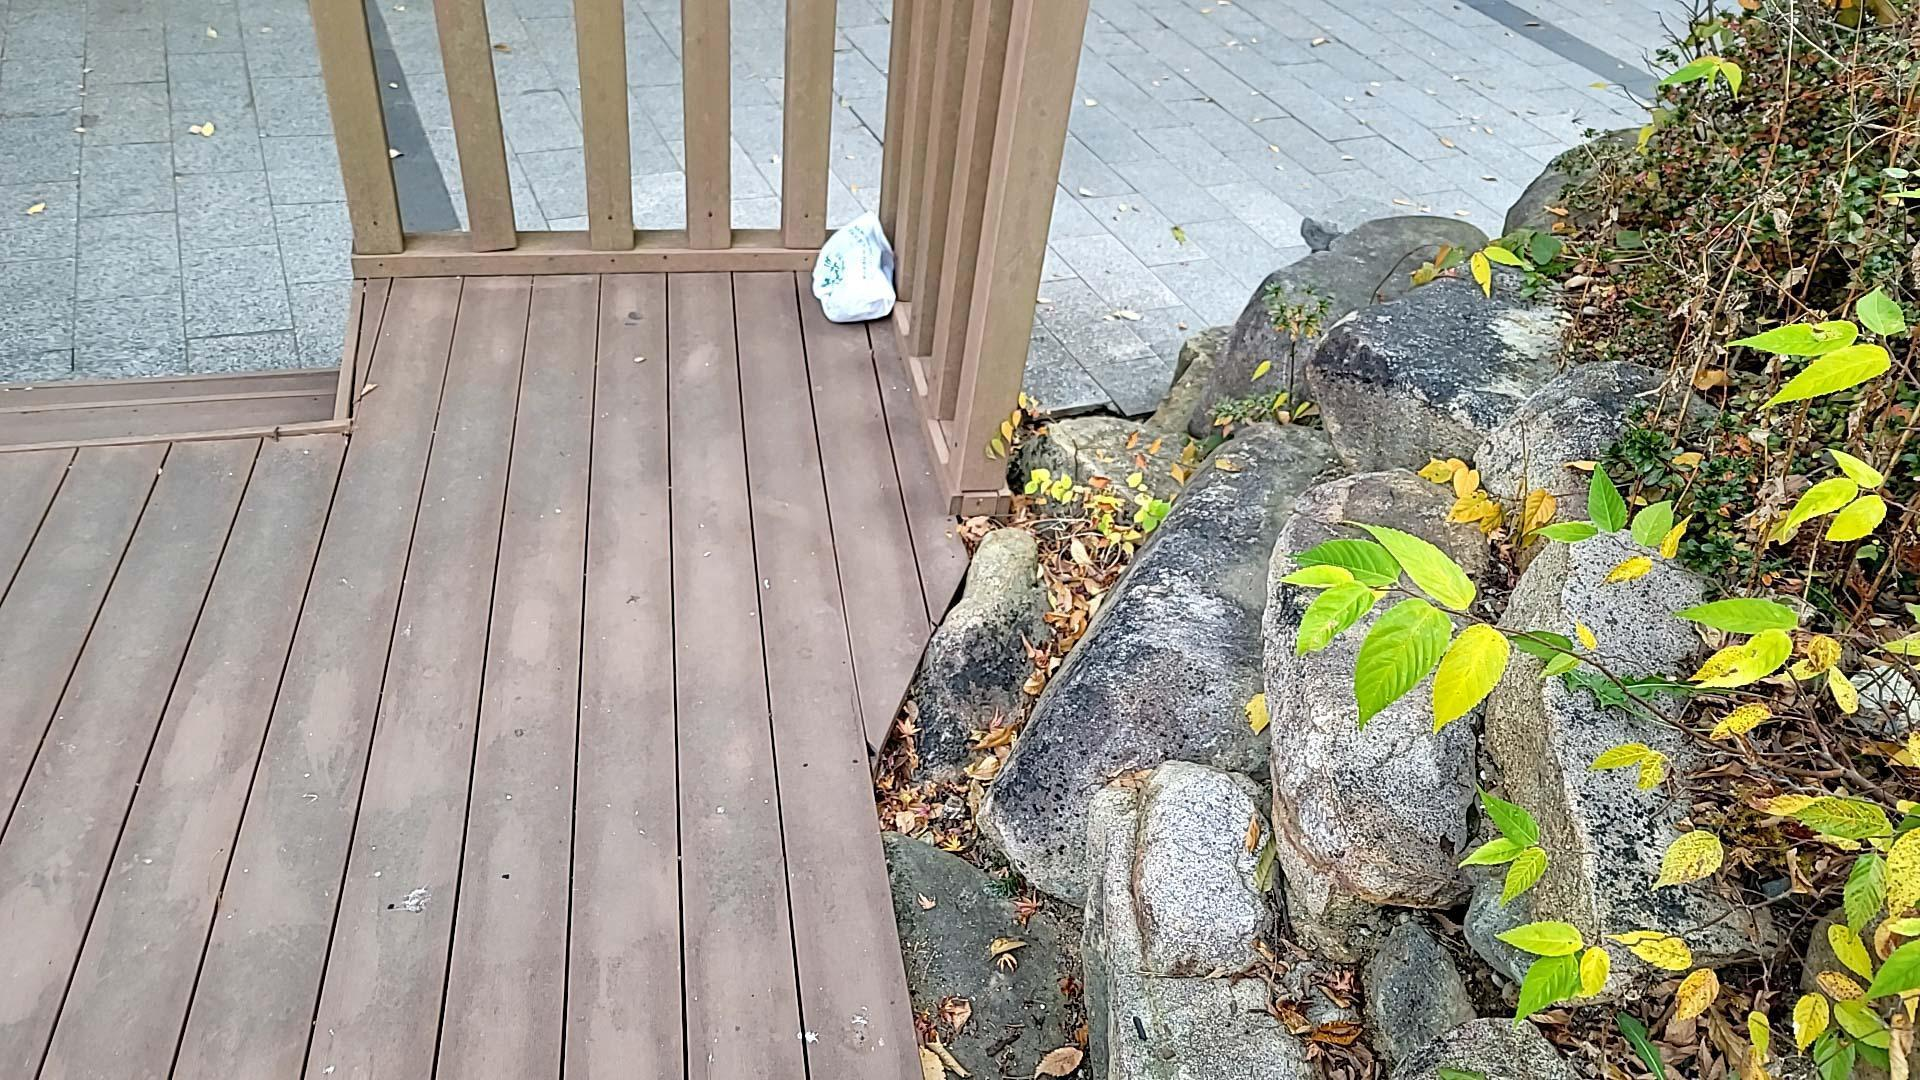white_bag: (793, 193, 907, 330)
